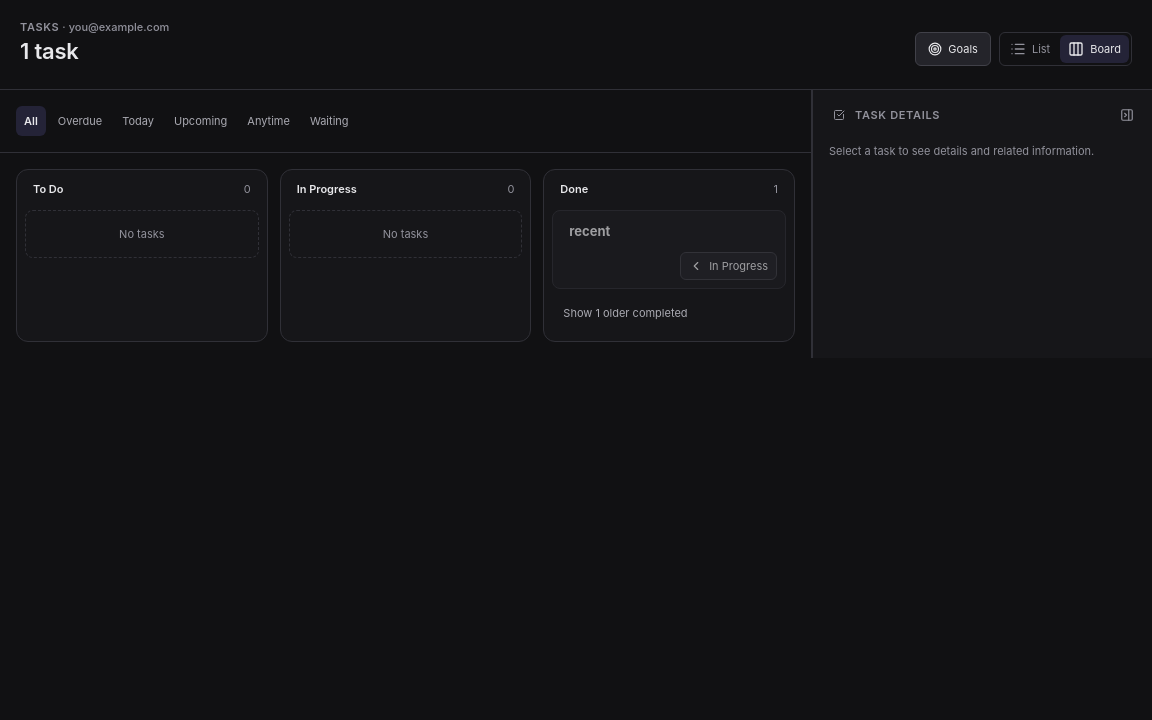
TaskSidebar › hides completed tasks older than a few days from the board's Done column
The image size is (1152, 720).
Expected: the heading "Done" is shown, [560,182,588,196]
Expected: the text "recent" is shown, [569,223,610,239]
Click the button "Show 1 older completed" at (625, 313), box [554,299,696,327]
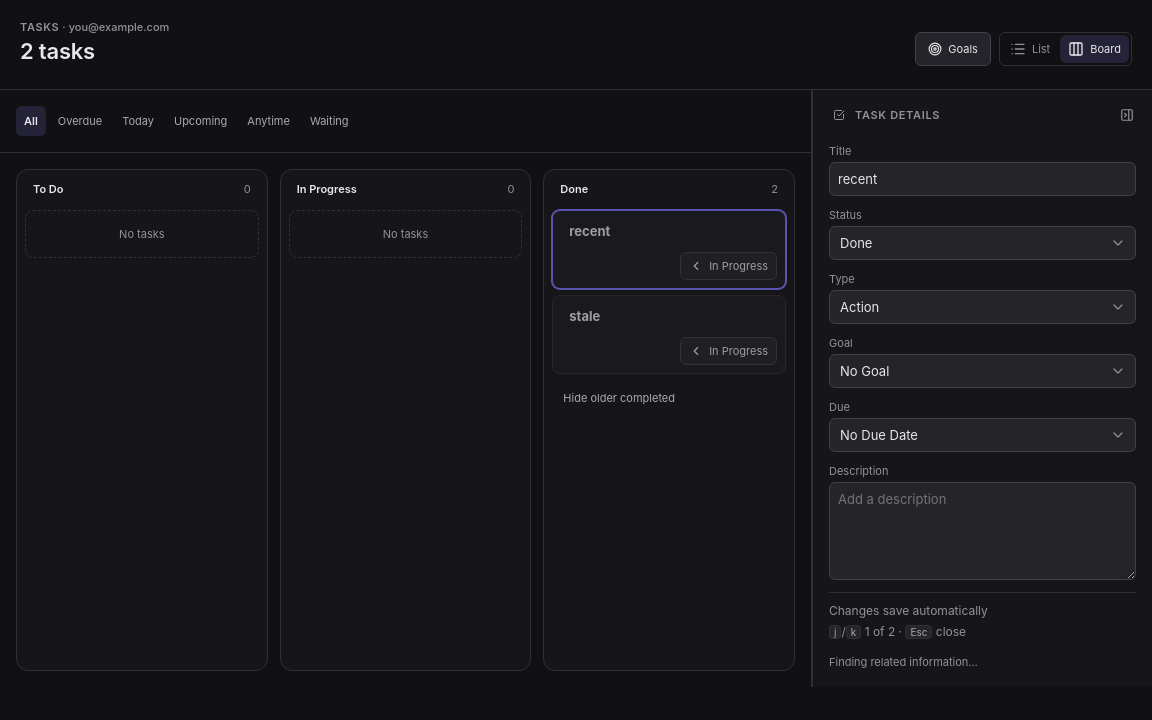
Expected: the text "stale" is shown, [569,308,600,324]
Click the button "Hide older completed" at (619, 398), box [554,384,684,412]
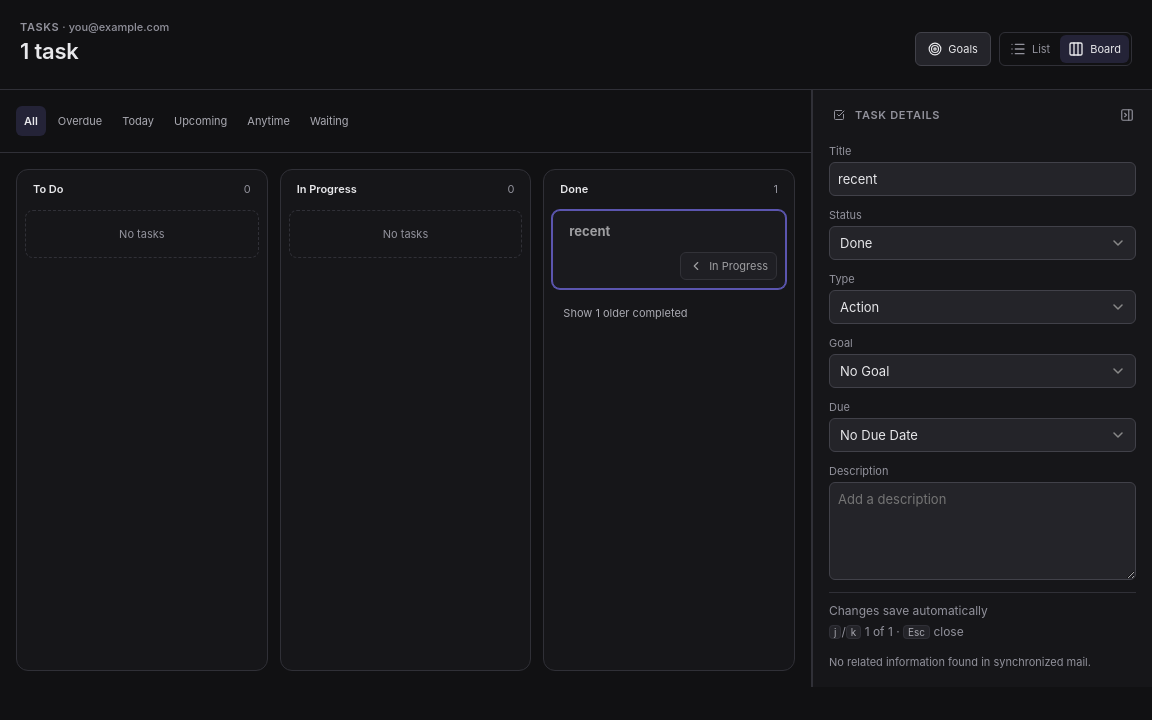
Expected: the button "stale" is gone
